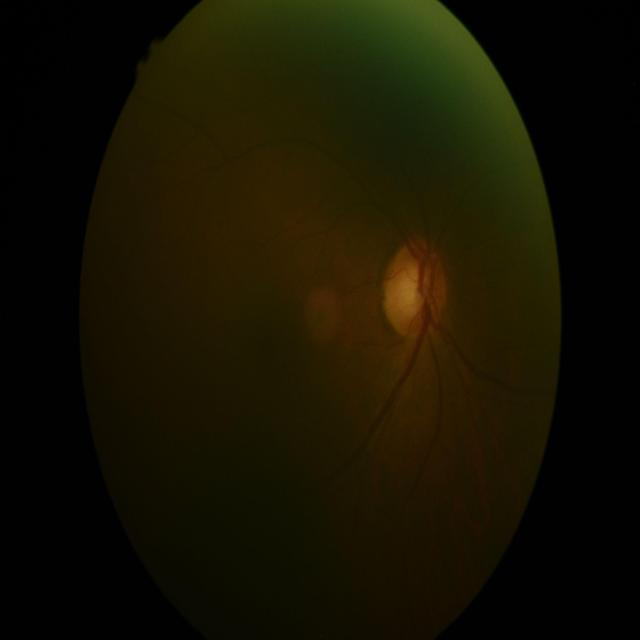cup: (392, 257, 436, 327)
disk: (384, 242, 448, 340)
